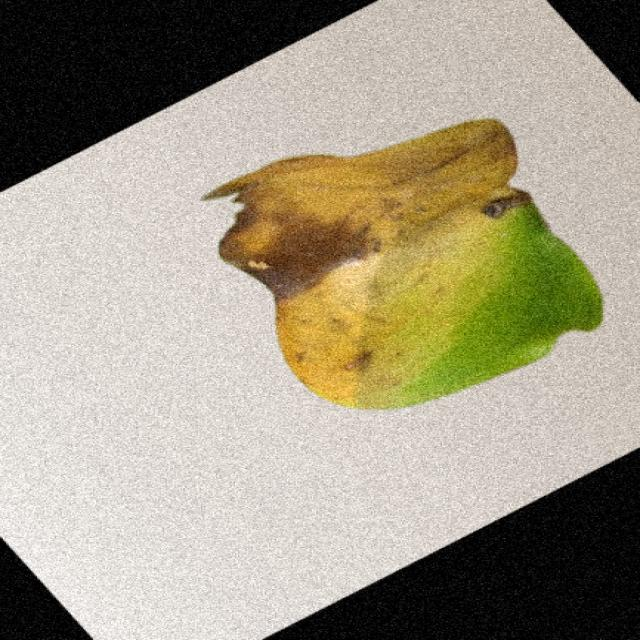daun berpenyakit kuning: (205, 119, 601, 409)
